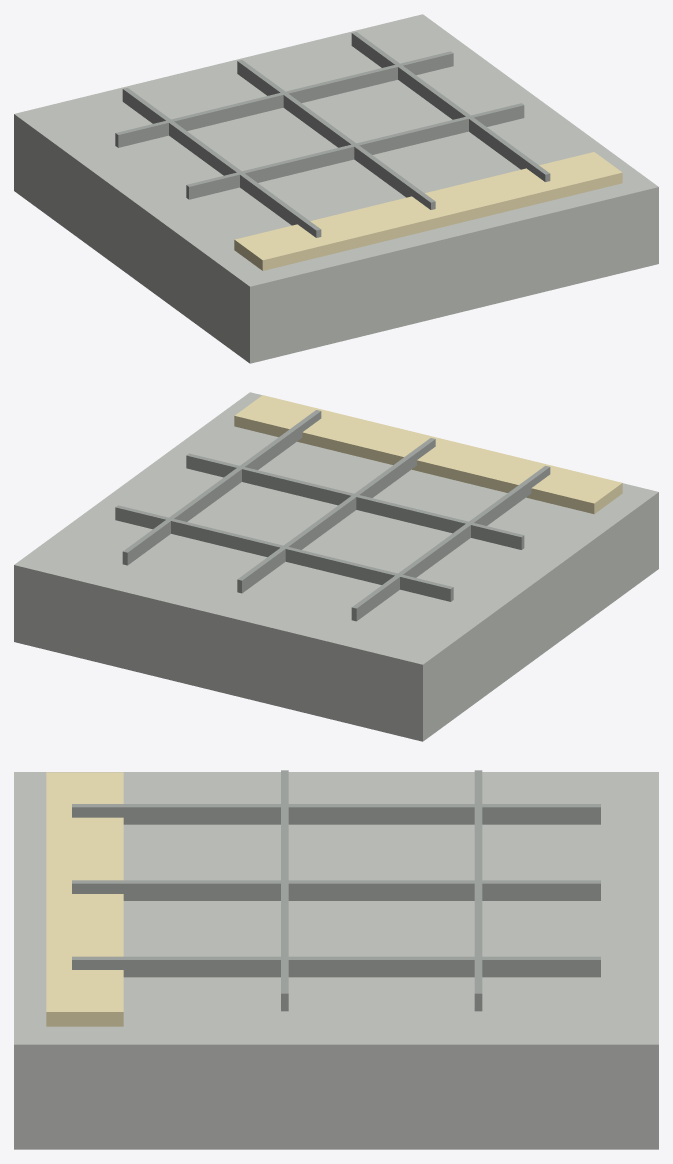
Rendered from station-platform.glb.
3 views of the same model, one above another, from view 1: azimuth 30°, elevation 25°; view 2: azimuth 150°, elevation 25°; view 3: azimuth 270°, elevation 25° (orthographic). The views are drawn at different scales.
Parts seen in each view (by area): view 1: platform-slab, yellow-safety-strip, tile-seam-z0.08, tile-seam-z-0.22, tile-seam-x0, tile-seam-x0.28, tile-seam-x-0.28; view 2: platform-slab, yellow-safety-strip, tile-seam-z0.08, tile-seam-z-0.22, tile-seam-x-0.28, tile-seam-x0.28, tile-seam-x0; view 3: platform-slab, yellow-safety-strip, tile-seam-x0.28, tile-seam-x-0.28, tile-seam-x0, tile-seam-z-0.22, tile-seam-z0.08.
Boxes of the visible parts, <box> form: platform-slab: <box>14,14,658,363</box>; yellow-safety-strip: <box>234,152,622,270</box>; tile-seam-z0.08: <box>186,103,524,199</box>; tile-seam-z-0.22: <box>115,51,453,147</box>; tile-seam-x0: <box>237,60,435,209</box>; tile-seam-x0.28: <box>351,32,550,181</box>; tile-seam-x-0.28: <box>122,88,321,237</box>; platform-slab: <box>14,392,658,741</box>; yellow-safety-strip: <box>234,395,622,513</box>; tile-seam-z0.08: <box>186,453,524,549</box>; tile-seam-z-0.22: <box>115,505,453,601</box>; tile-seam-x-0.28: <box>351,466,550,621</box>; tile-seam-x0.28: <box>122,410,321,565</box>; tile-seam-x0: <box>237,438,435,593</box>; platform-slab: <box>14,772,658,1149</box>; yellow-safety-strip: <box>46,772,123,1026</box>; tile-seam-x0.28: <box>72,956,600,977</box>; tile-seam-x-0.28: <box>72,804,600,824</box>; tile-seam-x0: <box>72,880,600,900</box>; tile-seam-z-0.22: <box>474,770,482,1011</box>; tile-seam-z0.08: <box>281,770,288,1011</box>.
Size of the model in its own units: 1 by 0.225 by 1.
